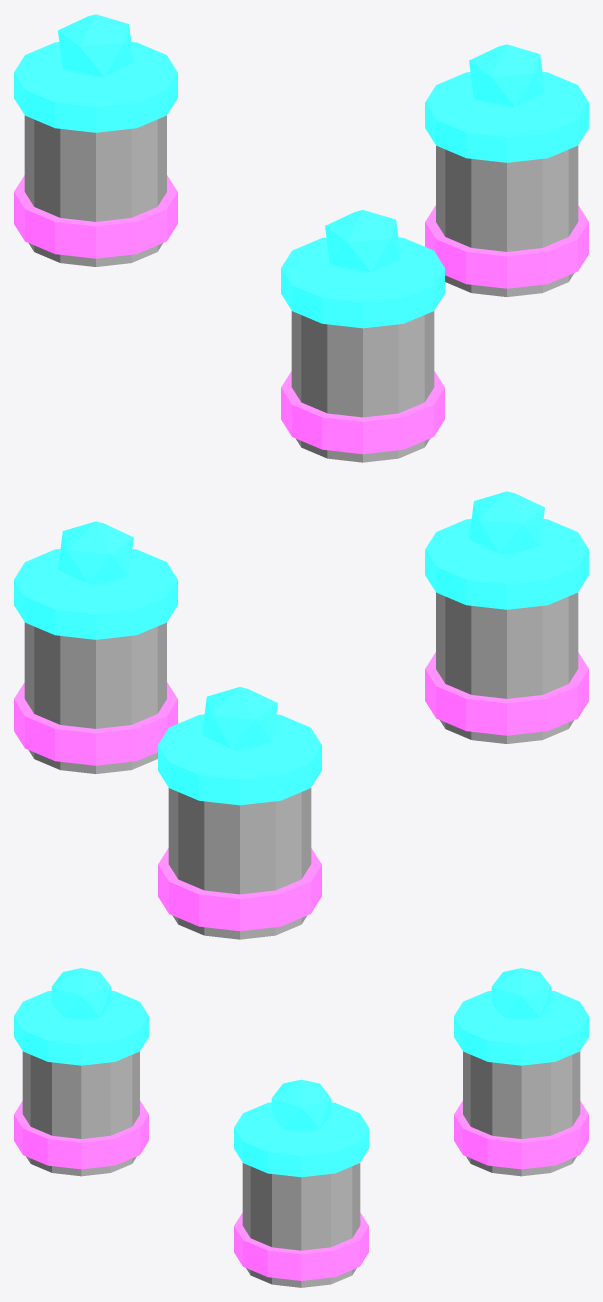
3 views of the same model, one above another, from view 1: azimuth 30°, elevation 25°; view 2: azimuth 150°, elevation 25°; view 3: azimuth 270°, elevation 25° (orthographic). The views are drawn at different scales.
Visible parts, largest first — view 1: Neon_SlalomBumpers_Showcase; view 2: Neon_SlalomBumpers_Showcase; view 3: Neon_SlalomBumpers_Showcase.
Part boxes in pixels (x1,y1,x2,y2): Neon_SlalomBumpers_Showcase: (14, 14, 588, 462); Neon_SlalomBumpers_Showcase: (14, 491, 588, 939); Neon_SlalomBumpers_Showcase: (14, 968, 588, 1287).
Bounding box in the file's own units: 1.36 × 0.69 × 1.96.
